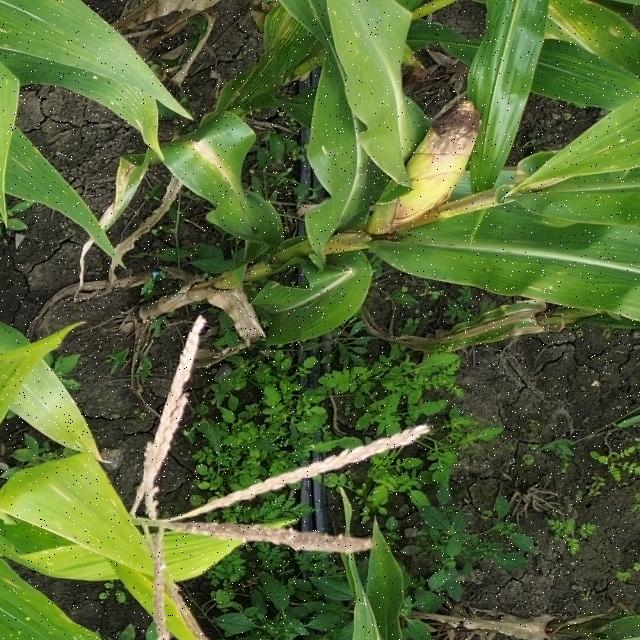northern-leaf-blight: (178, 128, 260, 207)
southern-leaf-blight: (0, 566, 102, 640)
